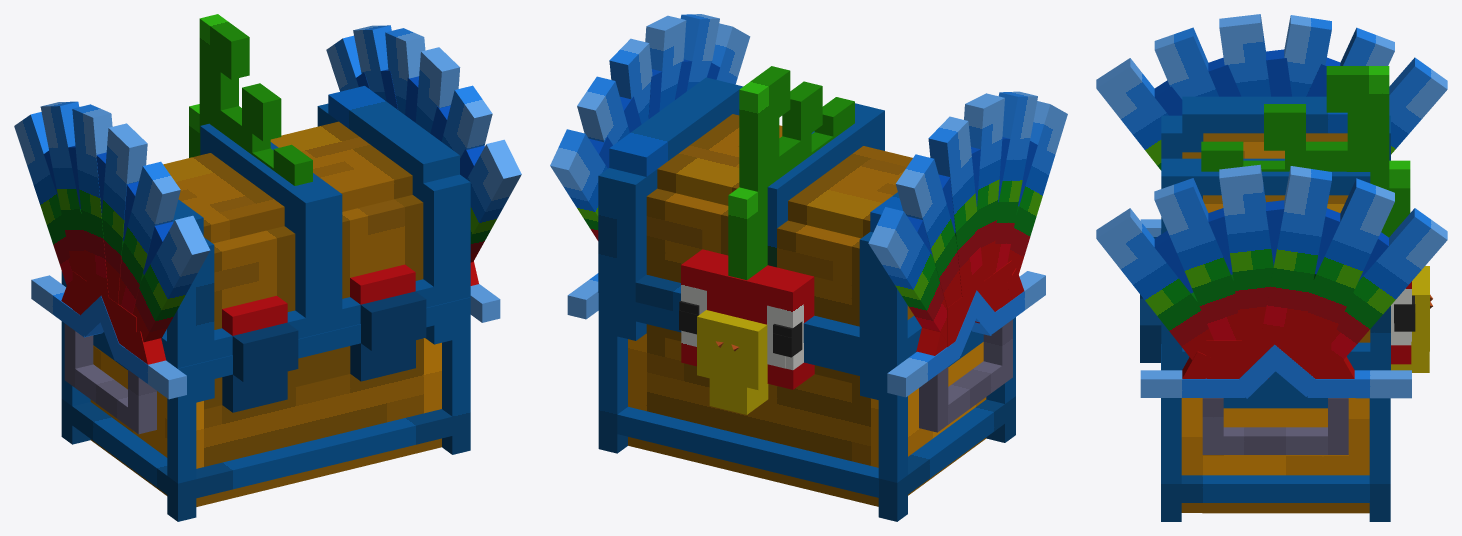
3 renders of one model, left to right at view 1: azimuth 30°, elevation 25°; view 2: azimuth 150°, elevation 25°; view 3: azimuth 270°, elevation 25°, orthographic. The views are drawn at different scales.
Parts seen in each view (by area): view 1: Chest-Local, top-Local, hair-Local, feather-A-7$$(1)-Local, feather-A-5$$(1)-Local, feather-A-4-Local, feather-A-1$$(1)-Local, feather-A-7-Local, feather-A-2$$(1)-Local, feather-A-3$$(1)-Local, side01$$(1)-Local, feather-A-4$$(6)-Local (+8 smaller); view 2: top-Local, Chest-Local, hair-Local, feather-A-3$$(1)-Local, feather-A-1$$(1)-Local, feather-A-2$$(1)-Local, feather-A-4-Local, feather-A-5$$(1)-Local, feather-A-7$$(1)-Local, lock1-Local, feather-A-3-Local, side01$$(1)-Local (+13 smaller); view 3: Chest-Local, top-Local, hair-Local, feather-A-1-Local, feather-A-5-Local, feather-A-2-Local, feather-A-7-Local, feather-A-4$$(6)-Local, feather-A-3-Local, side01-Local, feather-A-7$$(1)-Local, feather-A-4-Local (+10 smaller).
Part boxes in pixels (x1,y1,x2,y2): Chest-Local: (61,284,470,521); top-Local: (61,86,470,368); hair-Local: (189,14,312,185); feather-A-7$$(1)-Local: (132,215,210,342); feather-A-5$$(1)-Local: (118,161,180,314); feather-A-4-Local: (96,123,147,303); feather-A-1$$(1)-Local: (72,104,112,298); feather-A-7-Local: (460,139,521,262); feather-A-2$$(1)-Local: (40,101,86,280); feather-A-3$$(1)-Local: (14,112,72,302); side01$$(1)-Local: (31,275,186,399); feather-A-4$$(6)-Local: (405,47,460,133); top-Local: (598,77,921,365); Chest-Local: (598,293,1015,521); hair-Local: (728,66,854,280); feather-A-3$$(1)-Local: (868,207,946,341); feather-A-1$$(1)-Local: (928,116,984,304); feather-A-2$$(1)-Local: (896,154,961,307); feather-A-4-Local: (964,93,1004,280); feather-A-5$$(1)-Local: (993,91,1037,273); feather-A-7$$(1)-Local: (1007,101,1067,274); lock1-Local: (702,311,767,389); feather-A-3-Local: (550,129,612,240); side01$$(1)-Local: (887,271,1045,397); Chest-Local: (1140,229,1411,521); top-Local: (1161,96,1411,370); hair-Local: (1201,66,1410,237); feather-A-1-Local: (1260,166,1331,348); feather-A-5-Local: (1154,178,1241,340); feather-A-2-Local: (1302,178,1394,340); feather-A-7-Local: (1096,208,1213,360); feather-A-4$$(6)-Local: (1219,164,1284,340); feather-A-3-Local: (1331,208,1447,373); side01-Local: (1140,370,1411,398); feather-A-7$$(1)-Local: (1096,58,1182,170); feather-A-4-Local: (1219,14,1291,96).
Bounding box in the file's own units: 18.13 × 20.13 × 16.83.
36 materials, 36 textured.
